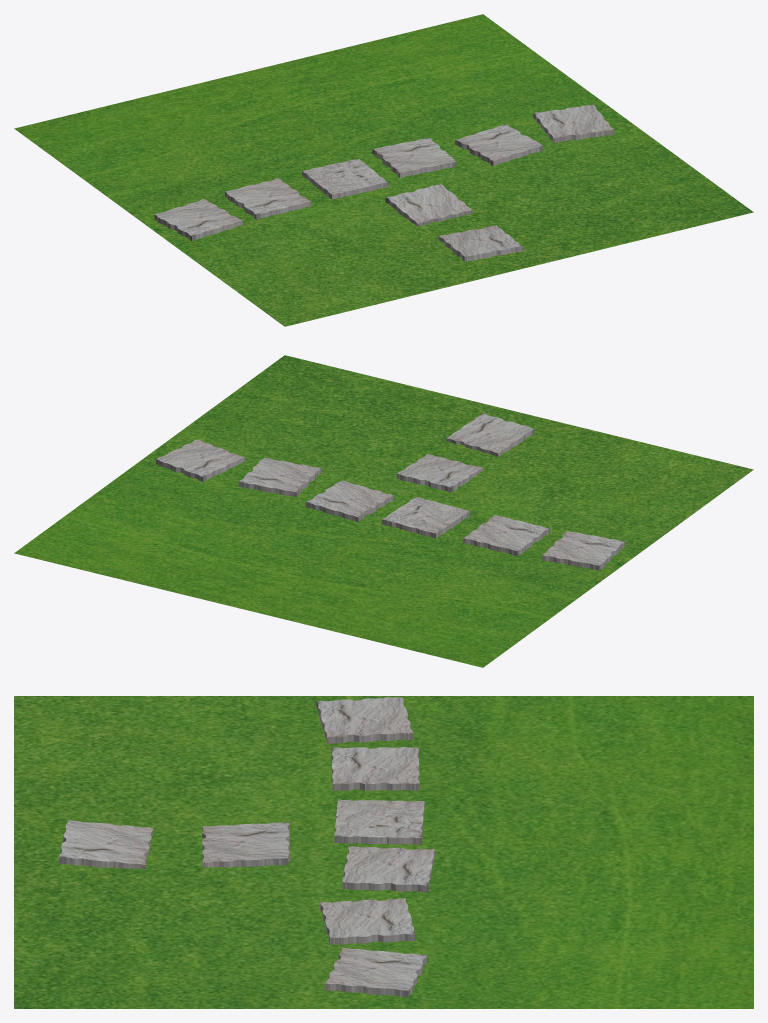
Rendered from pathWES.glb.
3 views of the same model, one above another, from view 1: azimuth 30°, elevation 25°; view 2: azimuth 150°, elevation 25°; view 3: azimuth 270°, elevation 25° (orthographic). The views are drawn at different scales.
Visible parts, largest first — view 1: Plane, Plane.009, Plane.001, Plane.003, Plane.005, Plane.006, Plane.007, Plane.010, Plane.004, Plane.002; view 2: Plane, Plane.010, Plane.003, Plane.007, Plane.005, Plane.001, Plane.006, Plane.009, Plane.004, Plane.002; view 3: Plane, Plane.007, Plane.010, Plane.001, Plane.003, Plane.005, Plane.006, Plane.009, Plane.004, Plane.002.
Part boxes in pixels (x1,y1,x2,y2): Plane: (14, 14, 753, 326); Plane.009: (385, 184, 472, 226); Plane.001: (154, 199, 242, 240); Plane.003: (225, 178, 311, 219); Plane.005: (372, 137, 456, 177); Plane.006: (455, 124, 542, 165); Plane.007: (533, 104, 613, 143); Plane.010: (438, 225, 523, 261); Plane.004: (302, 158, 386, 199); Plane.002: (302, 159, 388, 198); Plane: (14, 355, 753, 667); Plane.010: (446, 413, 534, 456); Plane.003: (463, 515, 549, 555); Plane.007: (156, 439, 244, 481); Plane.005: (305, 480, 393, 521); Plane.001: (542, 531, 625, 570); Plane.006: (238, 457, 321, 497); Plane.009: (396, 454, 483, 492); Plane.004: (381, 497, 469, 538); Plane.002: (382, 496, 468, 538); Plane: (14, 696, 753, 1008); Plane.007: (325, 947, 427, 997); Plane.010: (58, 820, 153, 869); Plane.001: (316, 697, 413, 744); Plane.003: (331, 747, 419, 790); Plane.005: (342, 846, 435, 892); Plane.006: (320, 898, 415, 944); Plane.009: (202, 822, 289, 867); Plane.004: (334, 799, 424, 844); Plane.002: (334, 800, 424, 844).
Size of the model in its own units: 1 by 0.0172 by 1.
Materials: 6 (6 with a texture image).
